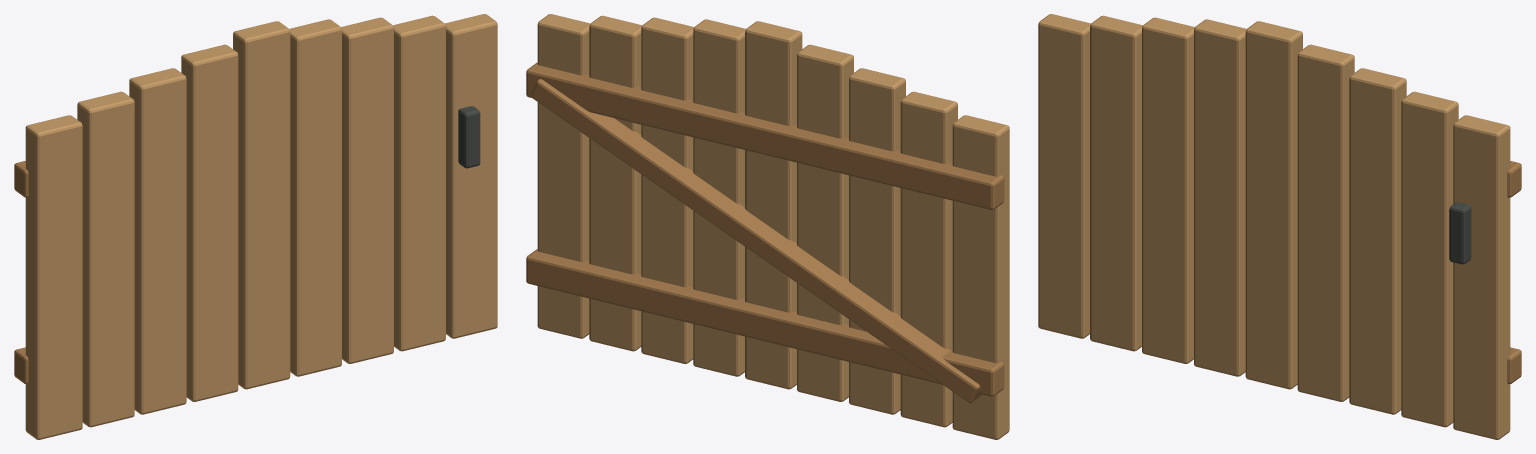
Rendered from SM_PlayerHouse_Gate.fbx.
The picture shows the model from 3 angles, left to right: view 1: azimuth 30°, elevation 25°; view 2: azimuth 150°, elevation 25°; view 3: azimuth 330°, elevation 25°; orthographic projection.
Visible parts, largest first — view 1: SM_PlayerHouse_Gate; view 2: SM_PlayerHouse_Gate; view 3: SM_PlayerHouse_Gate.
Part boxes in pixels (x1=…): SM_PlayerHouse_Gate: x1=14, y1=14, x2=497, y2=439; SM_PlayerHouse_Gate: x1=526, y1=14, x2=1009, y2=439; SM_PlayerHouse_Gate: x1=1038, y1=14, x2=1521, y2=439.
Size of what is drawn, in the model's own units: 176 by 21.25 by 126.
